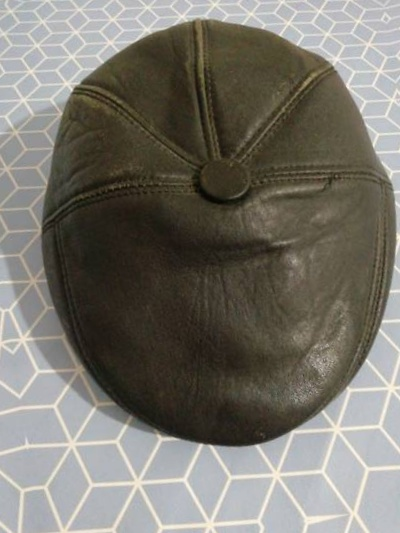Hat: (0, 0, 400, 488), (0, 38, 23, 533)
